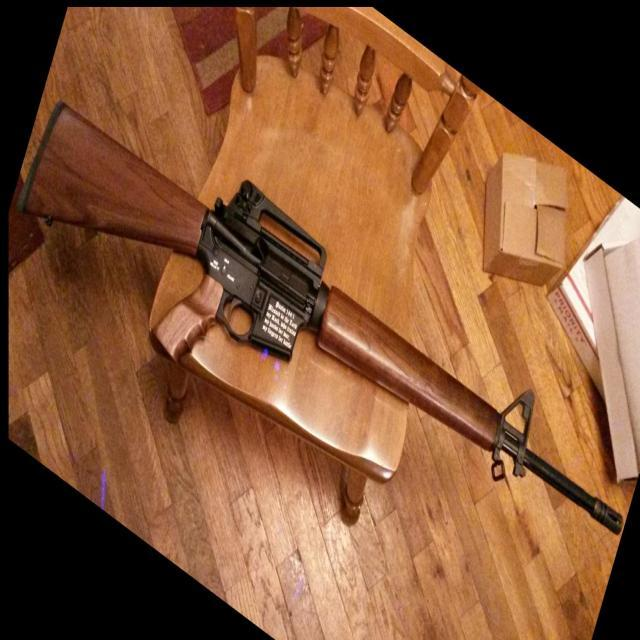weapon: (16, 98, 625, 536)
